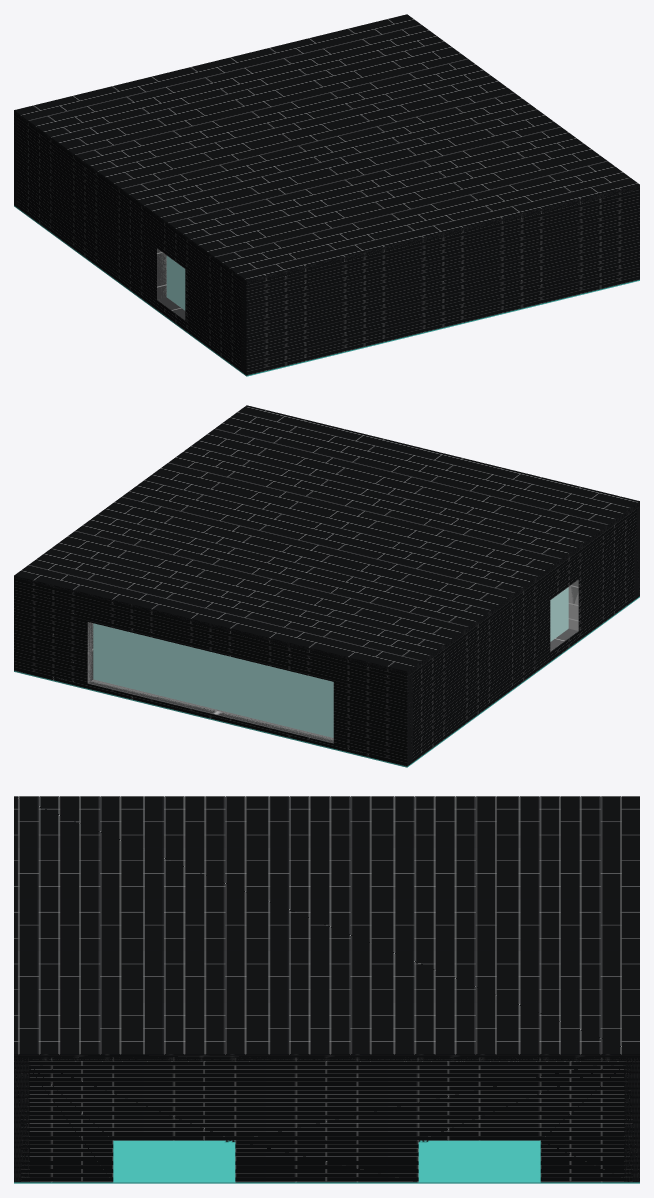
File: OfficeRoomIMPROVED.fbx
3 renders of one model, top to bottom at view 1: azimuth 30°, elevation 25°; view 2: azimuth 150°, elevation 25°; view 3: azimuth 270°, elevation 25°, orthographic. The views are drawn at different scales.
Visible parts, largest first — view 1: Roof, LeftWall, BackWall, Floor, Cube.001, RightWall; view 2: Roof, RightWall, BackWall, Cube, Floor, Plane, Cube.001; view 3: Roof, FrontWall, Floor, Plane, RightWall, LeftWall.
Boxes of the visible parts, x1=… form: Roof: x1=14, y1=14, x2=639, y2=284; LeftWall: x1=241, y1=187, x2=639, y2=375; BackWall: x1=17, y1=115, x2=243, y2=372; Floor: x1=14, y1=205, x2=639, y2=376; Cube.001: x1=157, y1=248, x2=185, y2=319; RightWall: x1=14, y1=113, x2=19, y2=208; Roof: x1=14, y1=405, x2=639, y2=676; RightWall: x1=14, y1=578, x2=412, y2=766; BackWall: x1=410, y1=509, x2=636, y2=762; Cube: x1=87, y1=622, x2=333, y2=743; Floor: x1=14, y1=588, x2=639, y2=767; Plane: x1=99, y1=627, x2=302, y2=680; Cube.001: x1=550, y1=580, x2=578, y2=651; Roof: x1=14, y1=796, x2=639, y2=1061; FrontWall: x1=21, y1=1057, x2=632, y2=1182; Floor: x1=14, y1=1140, x2=639, y2=1183; Plane: x1=174, y1=1140, x2=479, y2=1165; RightWall: x1=624, y1=1057, x2=639, y2=1182; LeftWall: x1=14, y1=1057, x2=29, y2=1182.
Bounding box in the file's own units: 40.01 × 9.35 × 41.01.
